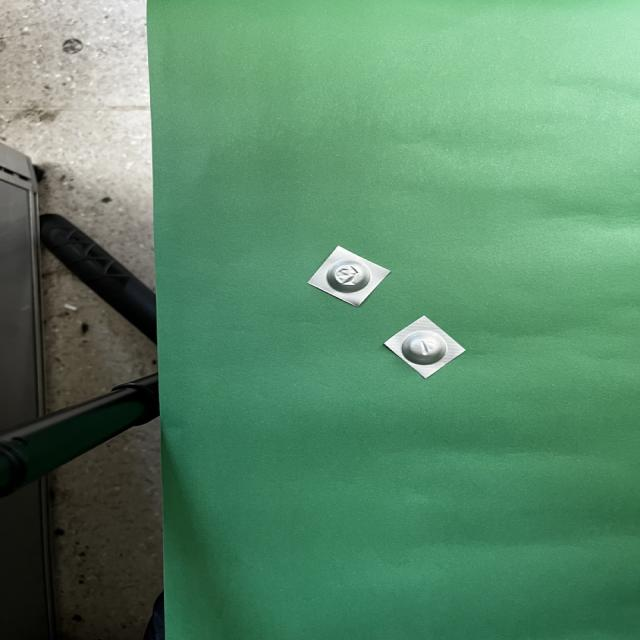Other Objects: (384, 316, 464, 378), (308, 246, 389, 306)
